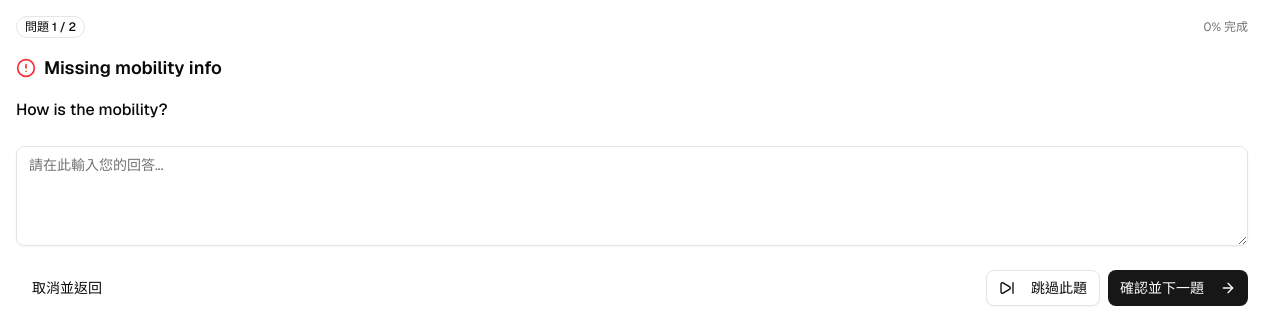
Test: GapWizard preserves state when navigating back
Check: the text "Missing mobility info" is shown, box [16,56,222,79]
Type "Good mobility" into the text box with placeholder "請在此輸入您的回答..." at x=632, y=196, box [16,146,1248,246]
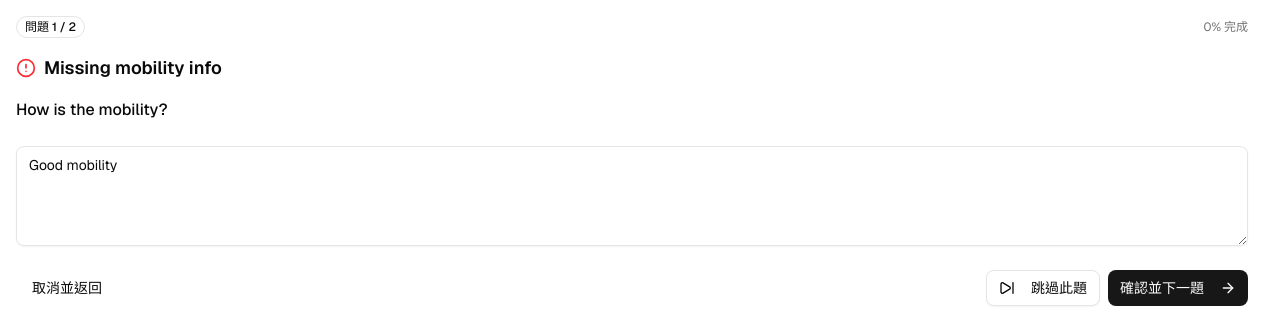
Click the button "確認並下一題" at x=1178, y=288, box [1108,270,1248,306]
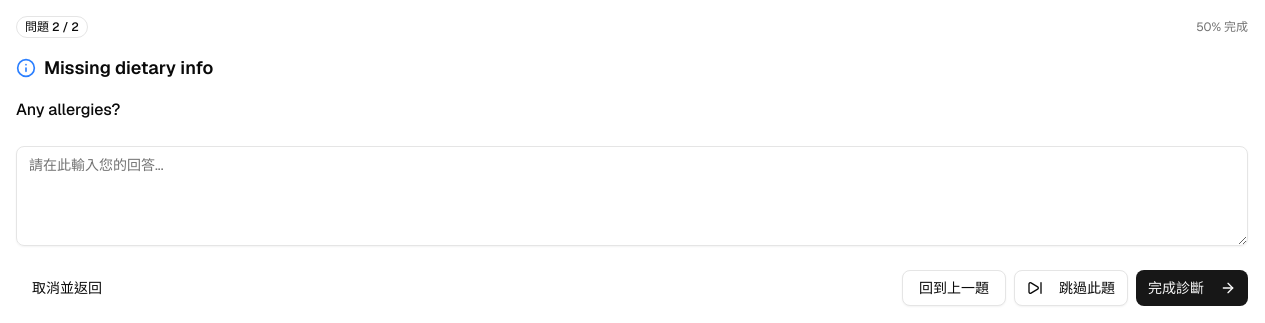
Check: the text "Missing dietary info" is shown, box [16,56,213,79]
Type "No allergies" into the text box with placeholder "請在此輸入您的回答..." at x=632, y=196, box [16,146,1248,246]
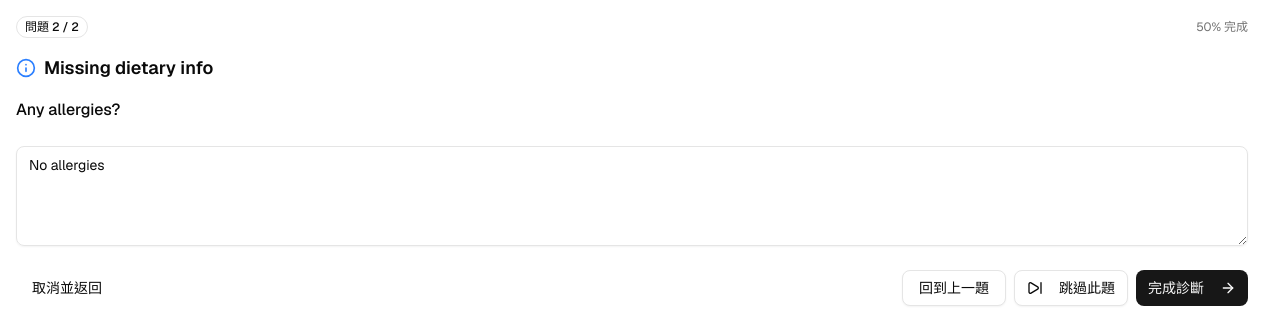
// Go Back to Step 1
Click the button "回到上一題" at x=954, y=288, box [902,270,1006,306]
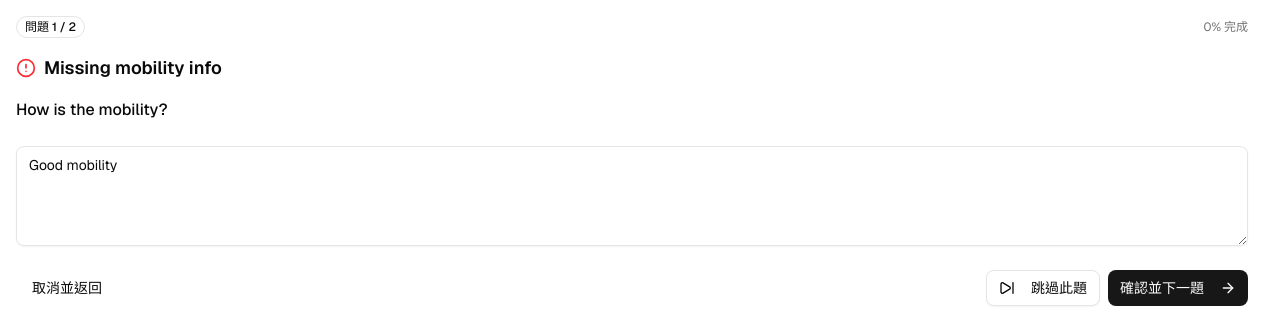
Check: the text "Missing mobility info" is shown, box [16,56,222,79]
// Go Next to Step 2 again
Click the button "確認並下一題" at x=1178, y=288, box [1108,270,1248,306]
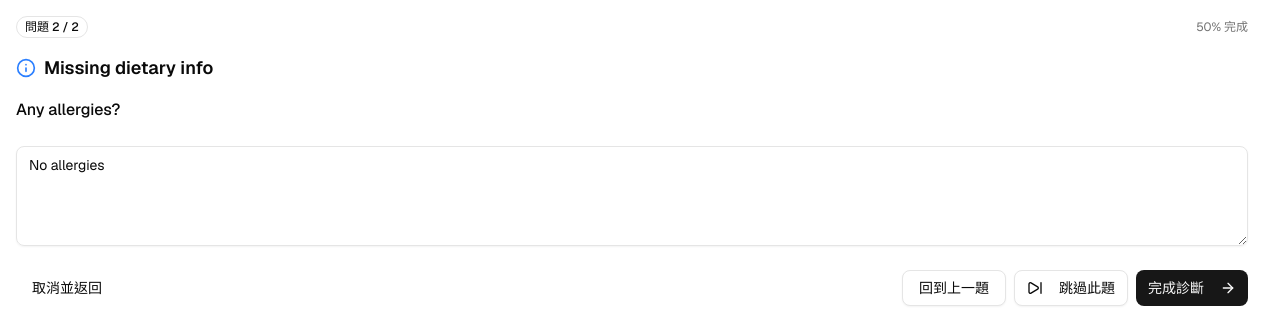
Check: the text "Missing dietary info" is shown, box [16,56,213,79]
